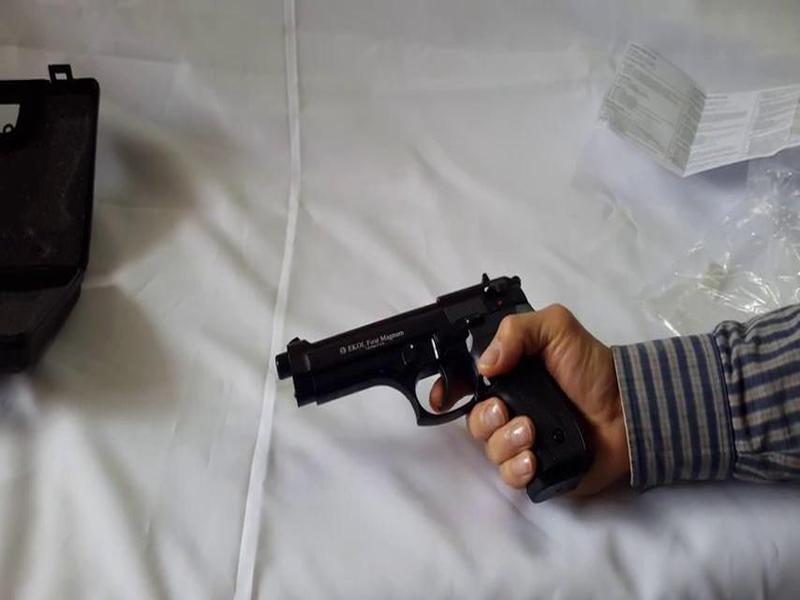Pistola: (260, 251, 591, 509)
